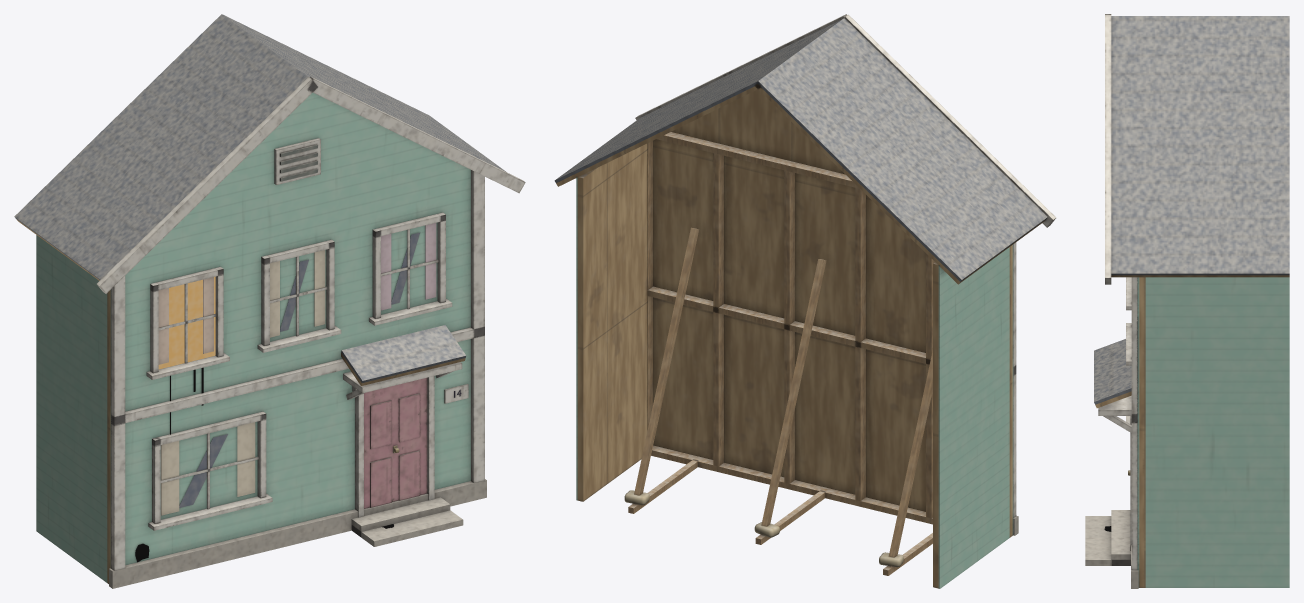
The model's file is house_twostory.fbx.
The picture shows the model from 3 angles, left to right: view 1: azimuth 30°, elevation 25°; view 2: azimuth 150°, elevation 25°; view 3: azimuth 270°, elevation 25°; orthographic projection. The views are drawn at different scales.
Visible parts, largest first — view 1: Body, Glow; view 2: Body; view 3: Body.
Part boxes in pixels (x1,y1,x2,y2): Body: (14, 14, 525, 588); Glow: (158, 276, 215, 369); Body: (554, 14, 1056, 588); Body: (1085, 14, 1289, 588).
Bounding box in the file's own units: 22.99 × 24.43 × 9.4.
1 material, 1 textured.
